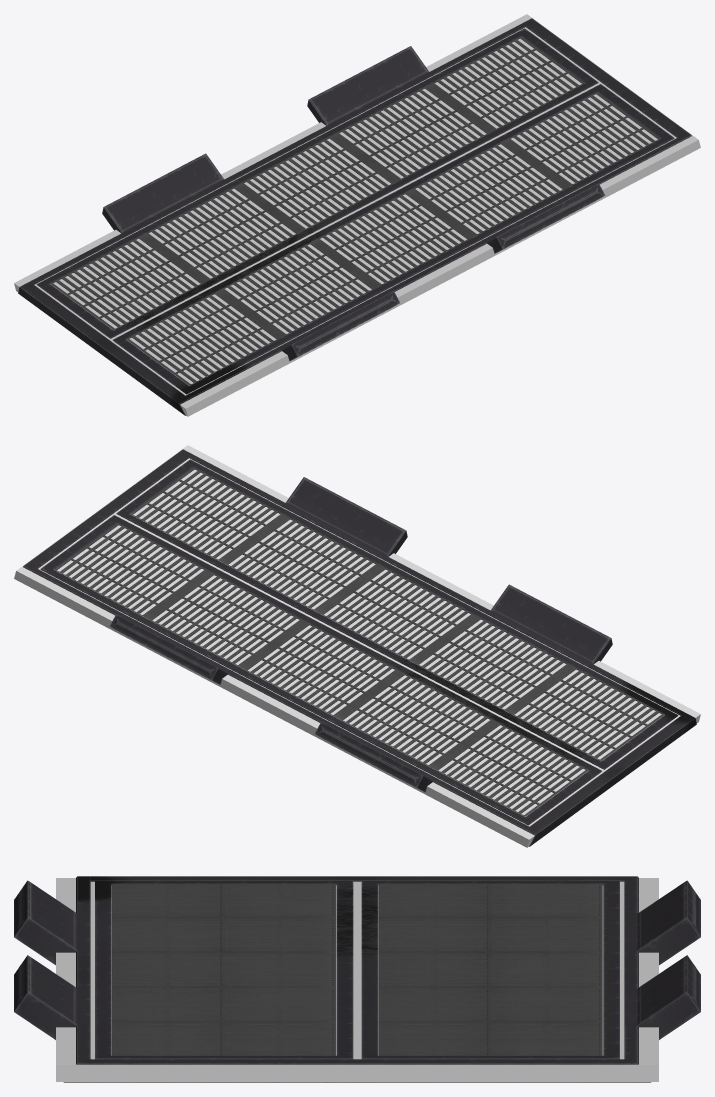
Rendered from SlopeScaffold.fbx.
The picture shows the model from 3 angles, top to bottom: view 1: azimuth 30°, elevation 25°; view 2: azimuth 150°, elevation 25°; view 3: azimuth 270°, elevation 25°; orthographic projection. The views are drawn at different scales.
Parts seen in each view (by area): view 1: Plane013, Coll, Box013; view 2: Plane013, Coll, Box013; view 3: Plane013, Box013, Coll.
Part boxes in pixels (<box>): Plane013: <box>50,36,660,385</box>; Coll: <box>14,14,700,416</box>; Box013: <box>18,18,691,415</box>; Plane013: <box>54,467,664,816</box>; Coll: <box>14,445,700,847</box>; Box013: <box>23,449,696,846</box>; Plane013: <box>112,884,602,1055</box>; Box013: <box>14,876,700,1082</box>; Coll: <box>56,878,658,1081</box>.
Size of the model in its own units: 2.43 by 0.6914 by 1.6.
